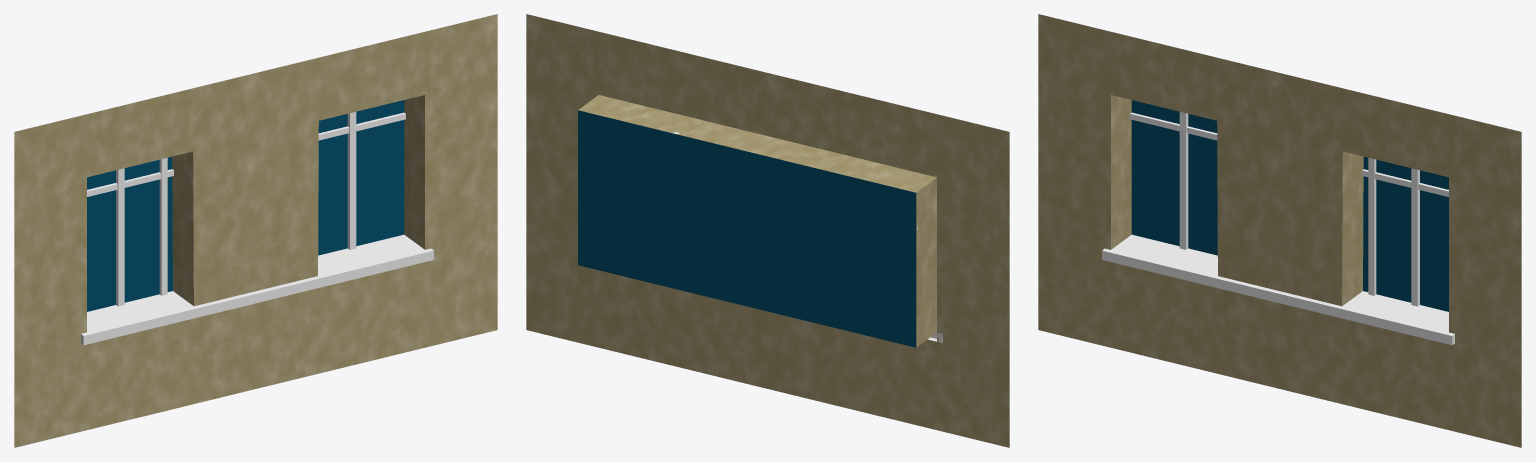
Rendered from building_assets_set1.glb.
3 views of the same model, side by side, from view 1: azimuth 30°, elevation 25°; view 2: azimuth 150°, elevation 25°; view 3: azimuth 330°, elevation 25° (orthographic).
Visible parts, largest first — view 1: WallWithLargeWindow, WallWithTwoWindows; view 2: WallWithLargeWindow, WallWithTwoWindows; view 3: WallWithLargeWindow, WallWithTwoWindows.
Boxes of the visible parts, left/top/right/bottom form: WallWithLargeWindow: left=14, top=14, right=497, bottom=447; WallWithTwoWindows: left=15, top=15, right=495, bottom=446; WallWithLargeWindow: left=526, top=14, right=1009, bottom=447; WallWithTwoWindows: left=527, top=15, right=1007, bottom=446; WallWithLargeWindow: left=1038, top=14, right=1521, bottom=447; WallWithTwoWindows: left=1039, top=15, right=1520, bottom=447.
Size of the model in its own units: 4 by 2.5 by 0.3416.
Materials: 2 (1 with a texture image).
